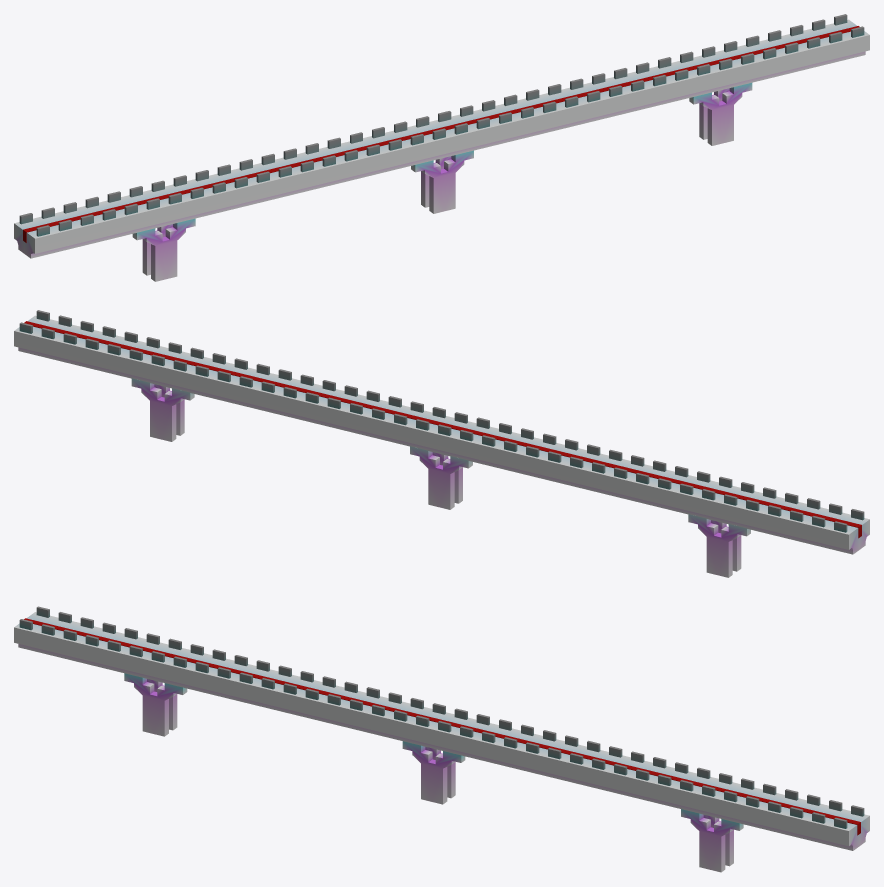
3 views of the same model, one above another, from view 1: azimuth 30°, elevation 25°; view 2: azimuth 150°, elevation 25°; view 3: azimuth 330°, elevation 25° (orthographic).
Visible parts, largest first — view 1: channel, strip, leg.005, leg.001, leg.003; view 2: channel, strip, leg.004, leg.002, leg; view 3: channel, strip, leg.001, leg.003, leg.005.
Boxes of the visible parts, <box> form: channel: <box>14,19,869,258</box>; strip: <box>23,26,859,242</box>; leg.005: <box>689,83,752,145</box>; leg.001: <box>132,218,195,281</box>; leg.003: <box>411,150,473,213</box>; channel: <box>14,315,869,554</box>; strip: <box>24,321,861,538</box>; leg.004: <box>131,378,194,441</box>; leg.002: <box>410,446,472,509</box>; leg: <box>688,514,750,577</box>; channel: <box>14,612,869,850</box>; strip: <box>24,618,860,835</box>; leg.001: <box>124,673,187,736</box>; leg.003: <box>402,741,465,804</box>; leg.005: <box>681,809,743,872</box>.
Size of the model in its own units: 9.98 by 0.9614 by 0.4371.
